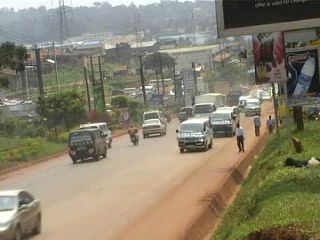Car: (0, 186, 50, 240), (140, 118, 166, 136), (175, 105, 195, 121)
Motorcycle: (127, 124, 139, 149), (162, 106, 171, 125)
